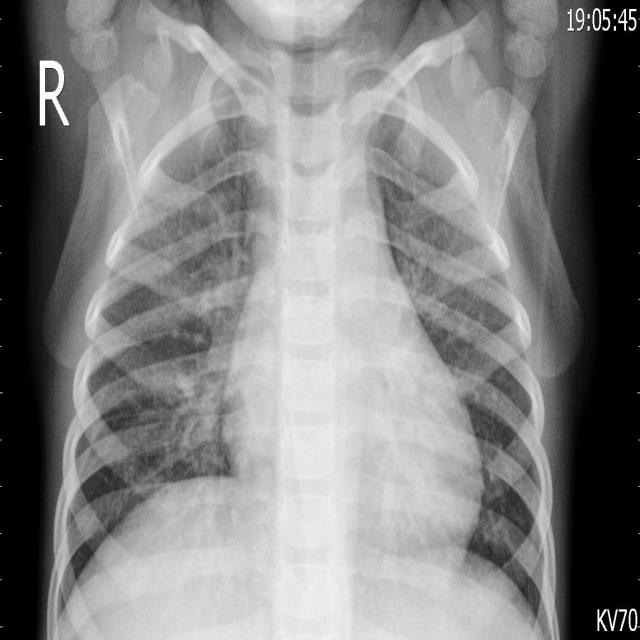low-pneumonia: (180, 248, 250, 458), (403, 222, 467, 332)
